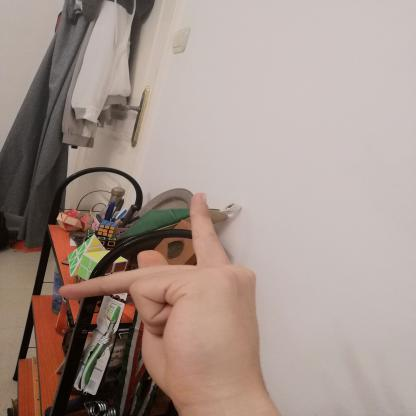DHAA: (42, 182, 280, 409)
